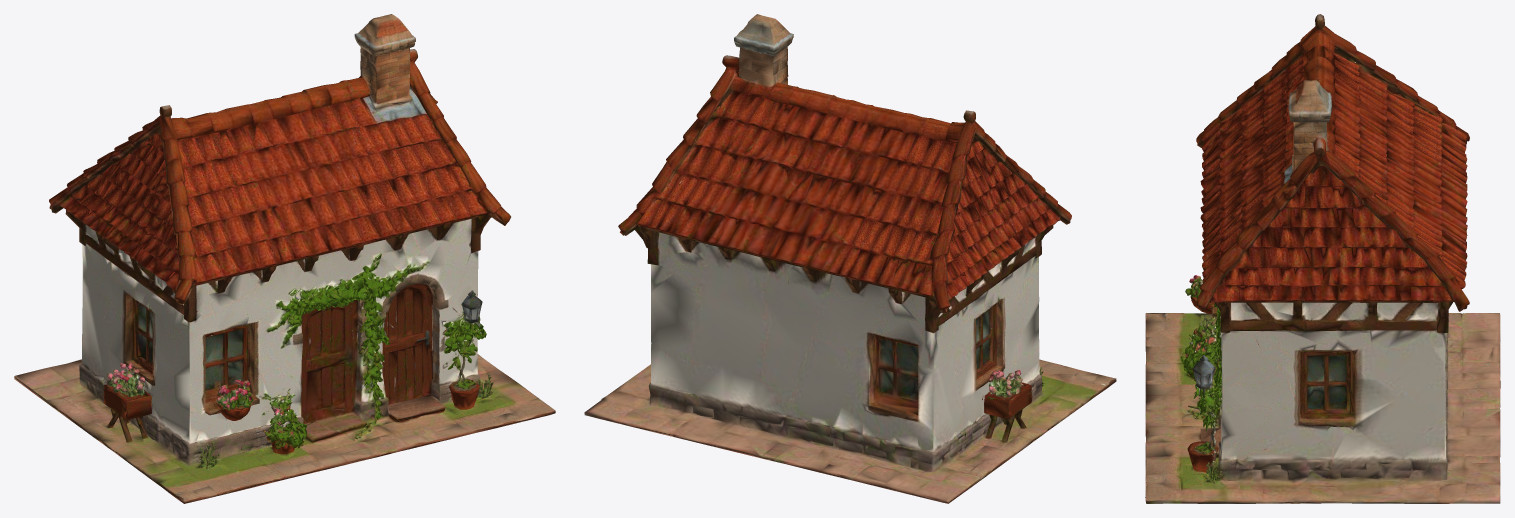
File: cottage.glb
3 views of the same model, side by side, from view 1: azimuth 30°, elevation 25°; view 2: azimuth 150°, elevation 25°; view 3: azimuth 270°, elevation 25° (orthographic). The views are drawn at different scales.
Size of the model in its own units: 1.9 by 1.76 by 1.52.
Materials: 1 (1 with a texture image).
